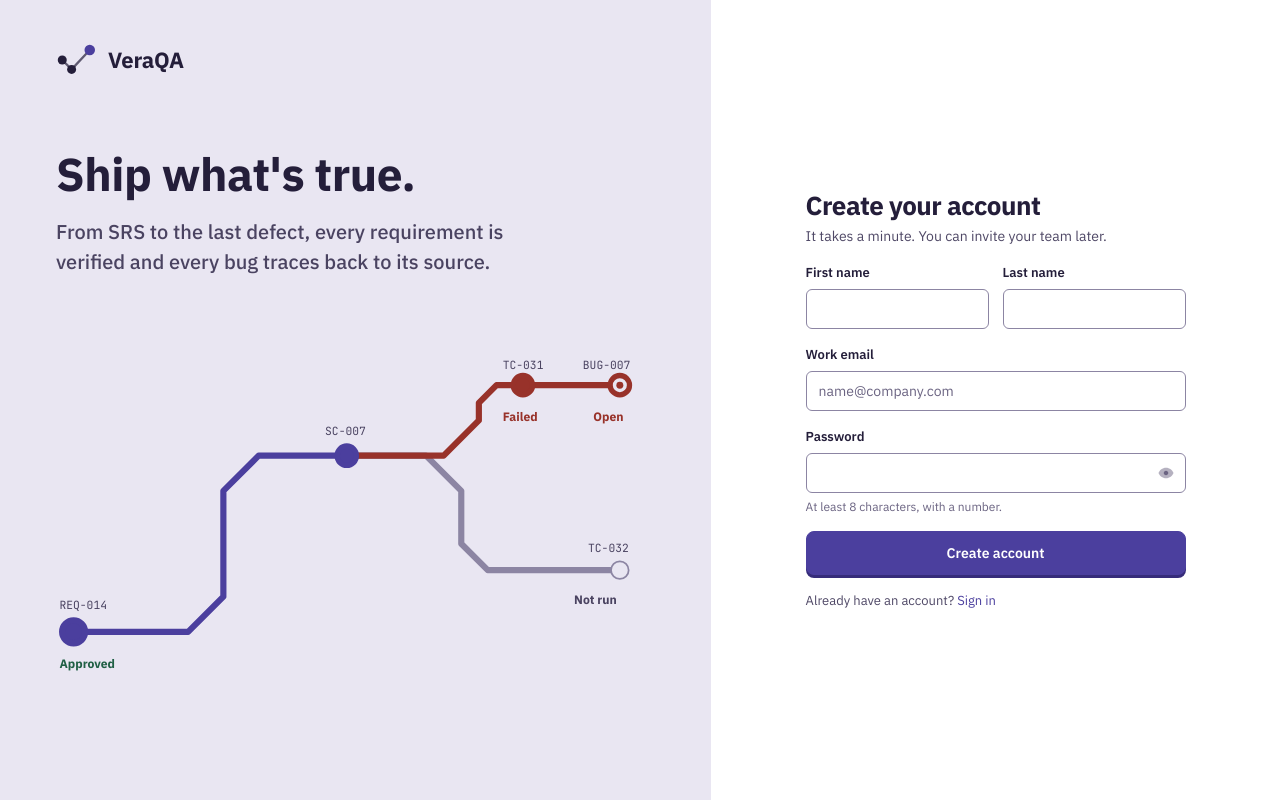
Register › signs the new person in and opens Your projects
The image size is (1280, 800).
Type "Sami" into the field labelled "First name".
click(897, 309); type("Sami")  # box [806,289,988,329]
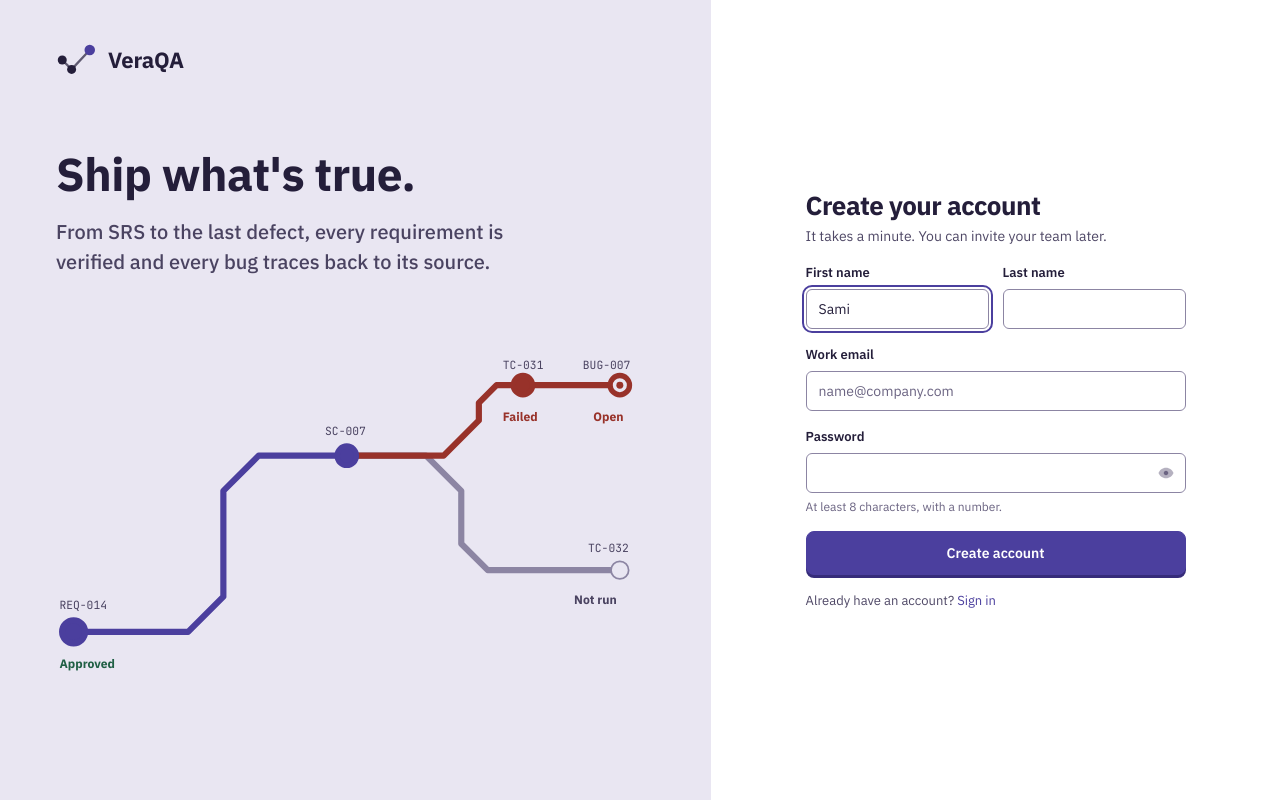
Type "Nour" into the field labelled "Last name".
click(1094, 309); type("Nour")  # box [1002,289,1186,329]
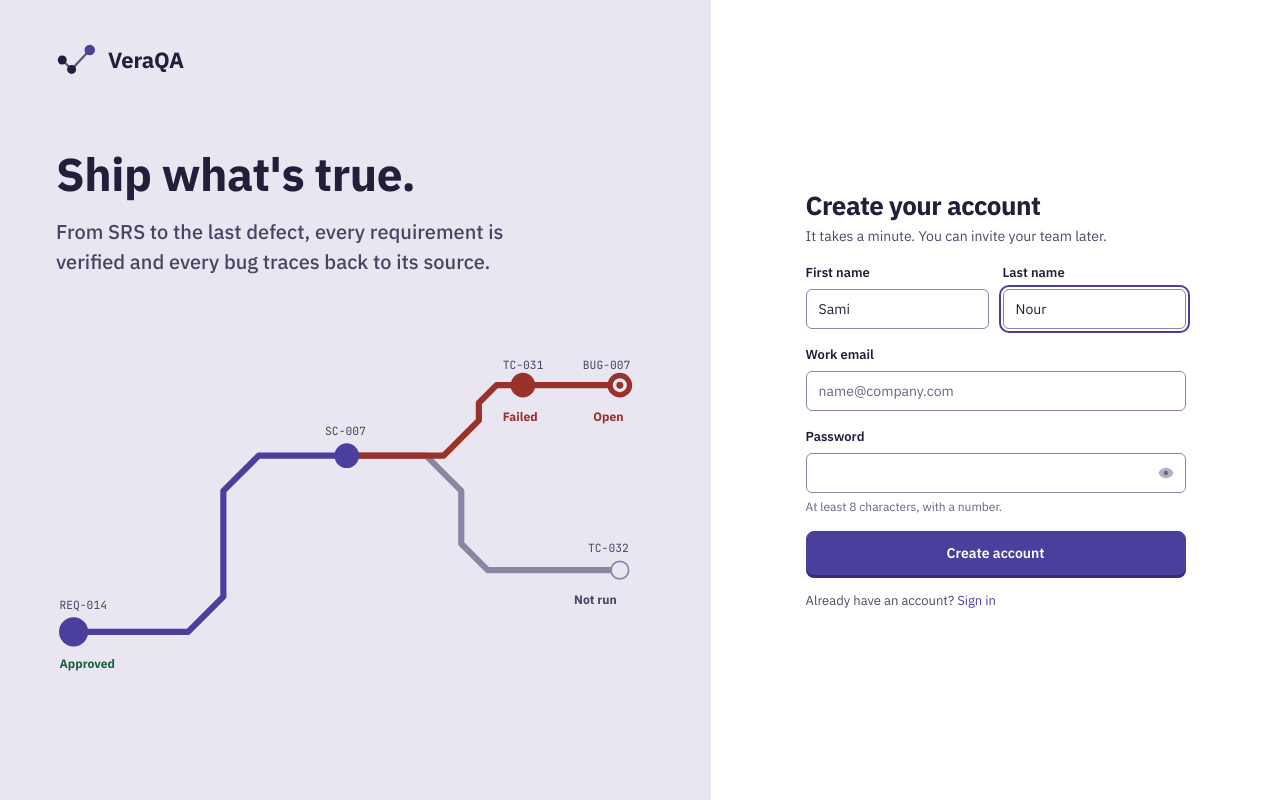
Type "sami.nour@shop-team.com" into the field labelled "Work email".
click(996, 391); type("sami.nour@shop-team.com")  # box [806,371,1186,411]
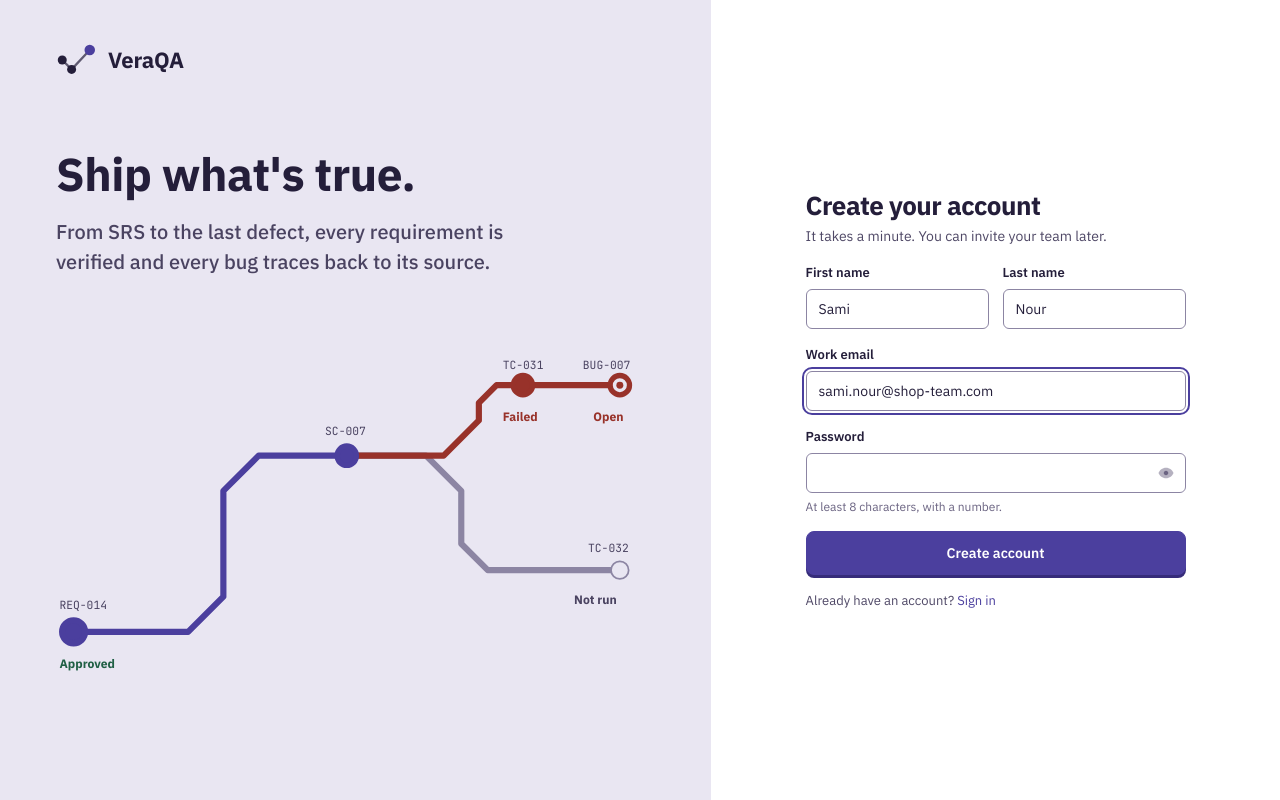
Type "Correct#456" into the password field labelled "Password".
click(996, 473); type("Correct#456")  # box [806,453,1186,493]
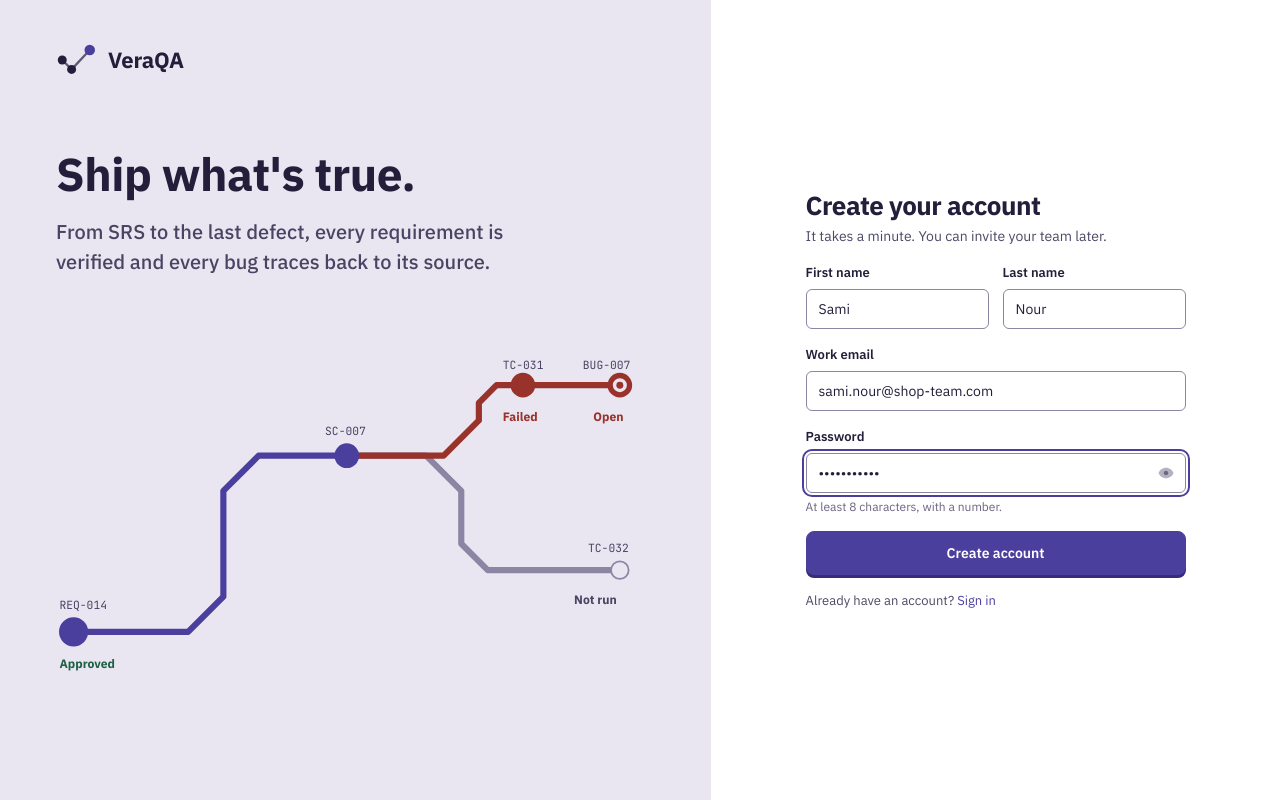
Click the button "Create account".
click(996, 553)  # box [806,531,1186,575]
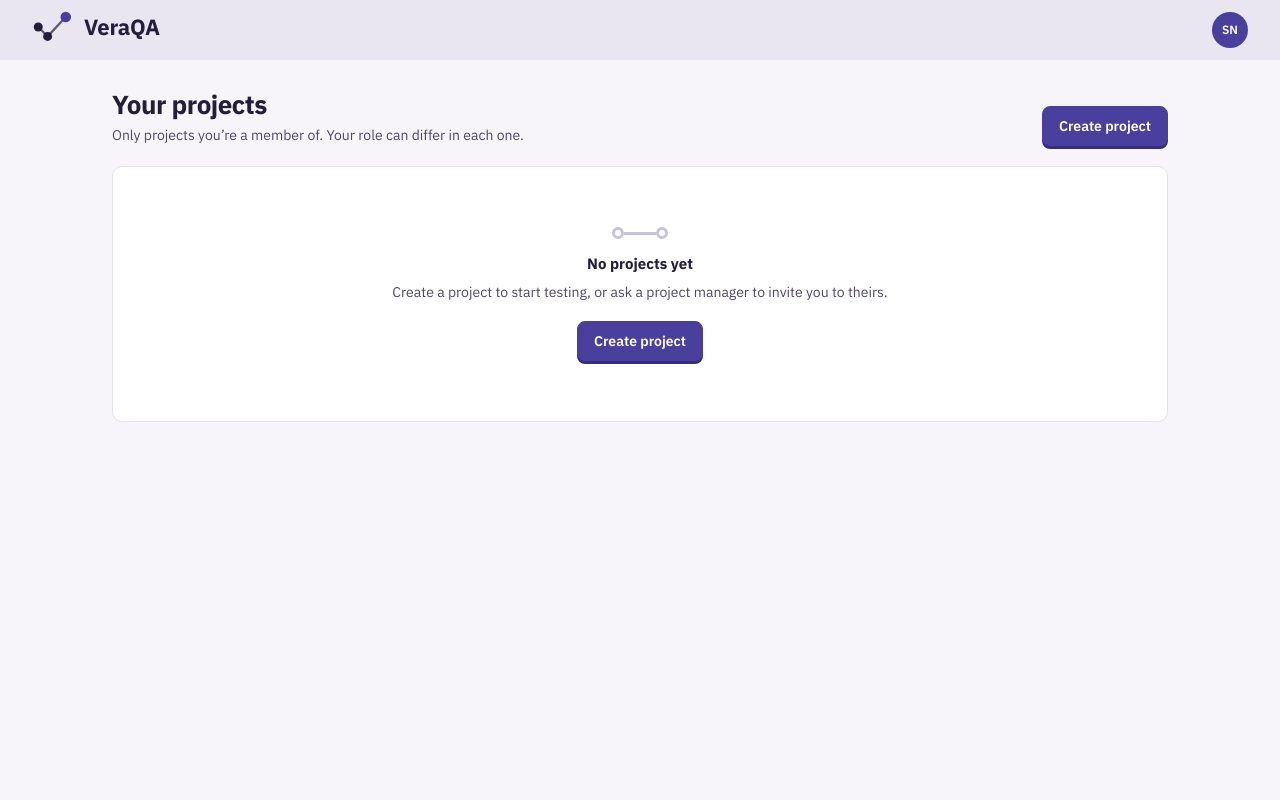
expect the heading "Your projects" is shown: met, box [112,87,267,121]
